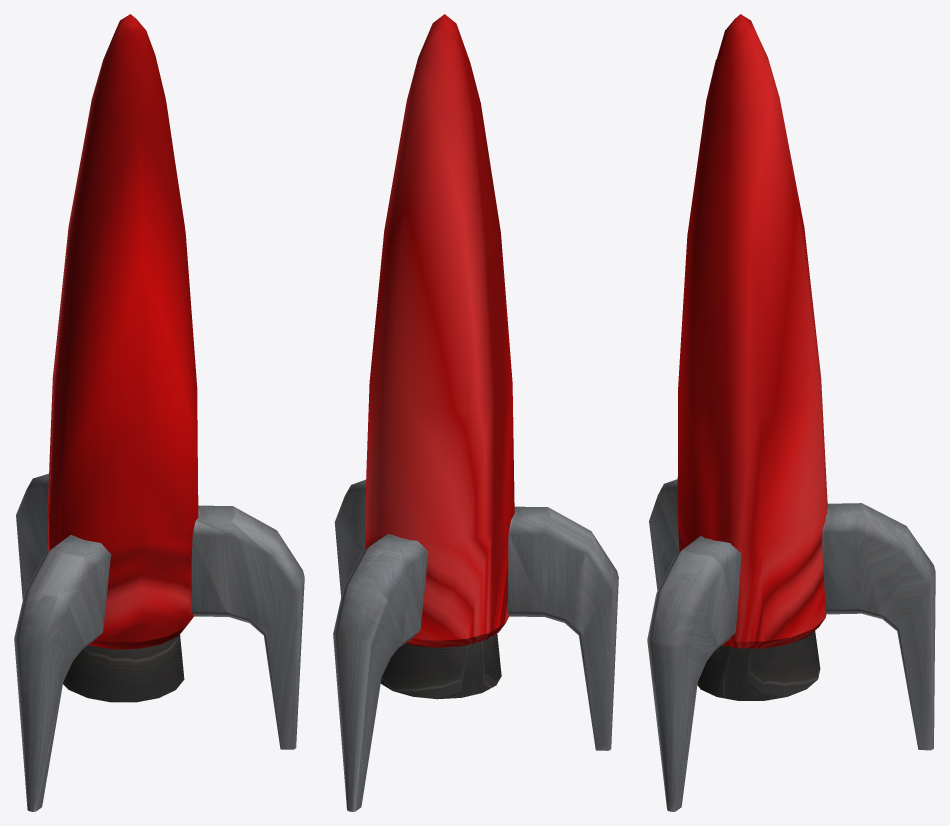
File: Colony_Rocket_Art.glb
3 renders of one model, left to right at view 1: azimuth 30°, elevation 25°; view 2: azimuth 150°, elevation 25°; view 3: azimuth 270°, elevation 25°, orthographic.
Visible parts, largest first — view 1: Colony_Rocket_Art; view 2: Colony_Rocket_Art; view 3: Colony_Rocket_Art.
Boxes of the visible parts, x1,y1,x2,y2 form: Colony_Rocket_Art: (14,14,304,811); Colony_Rocket_Art: (333,14,618,811); Colony_Rocket_Art: (647,14,935,811).
Bounding box in the file's own units: 2.05 × 5.13 × 1.83.
1 material, 1 textured.
